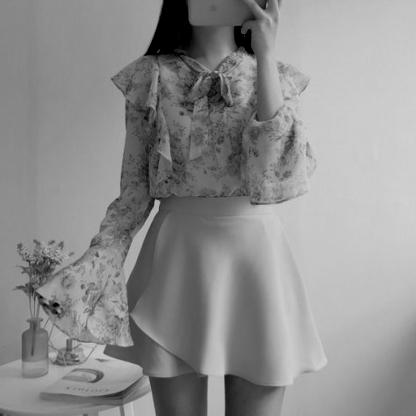dress: (38, 46, 348, 339)
jacket: (102, 192, 337, 394)
